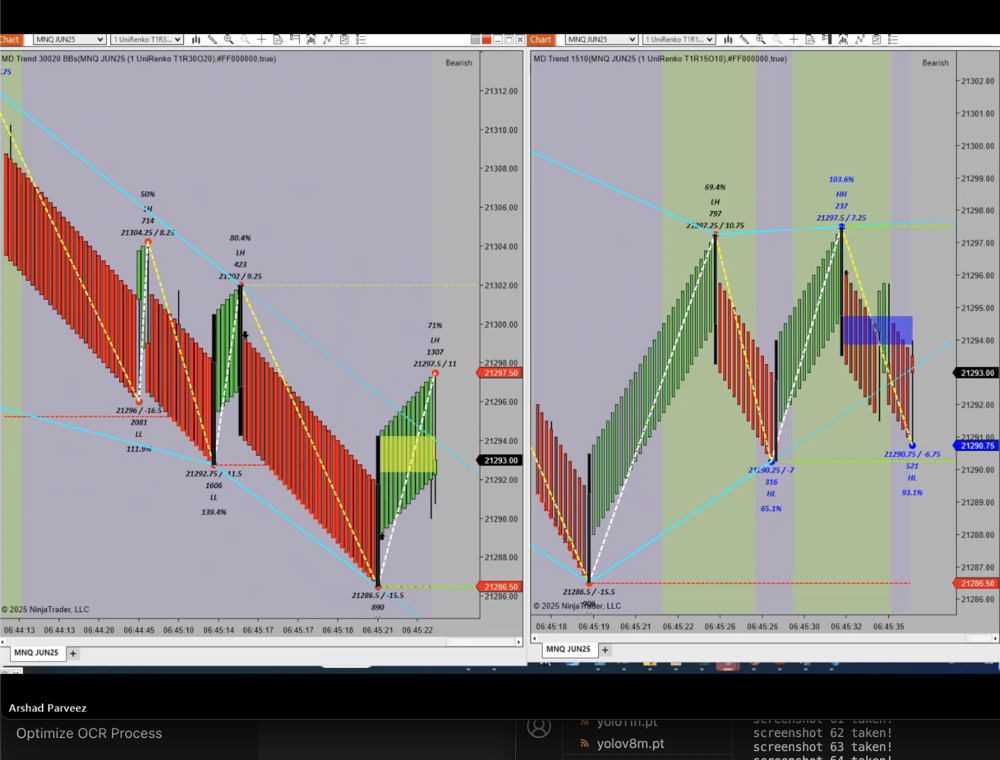HH: (830, 186, 854, 203)
HL: (757, 486, 786, 503), (900, 470, 924, 486)
LH: (702, 192, 731, 212), (228, 246, 259, 263), (136, 199, 160, 218), (427, 331, 447, 347)
LL: (206, 487, 226, 506), (127, 429, 151, 443)
